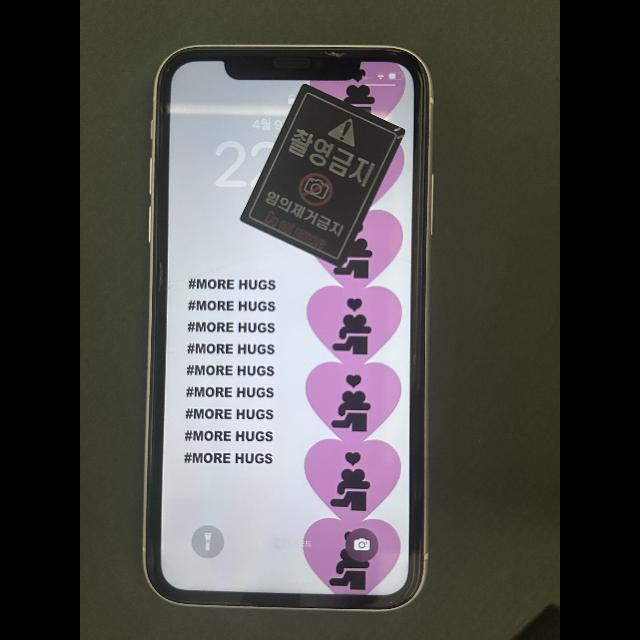lens: (316, 59, 325, 68)
phone: (141, 44, 435, 612)
sticker: (239, 83, 405, 267)
